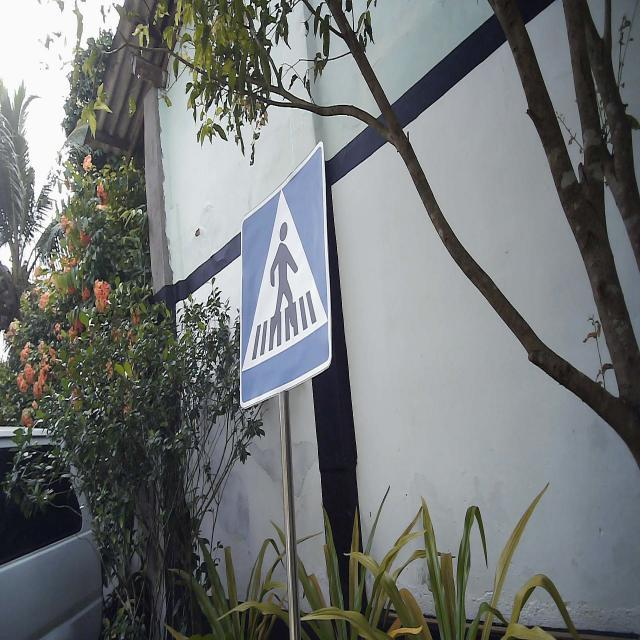crosswalk_sign: (238, 139, 335, 412)
